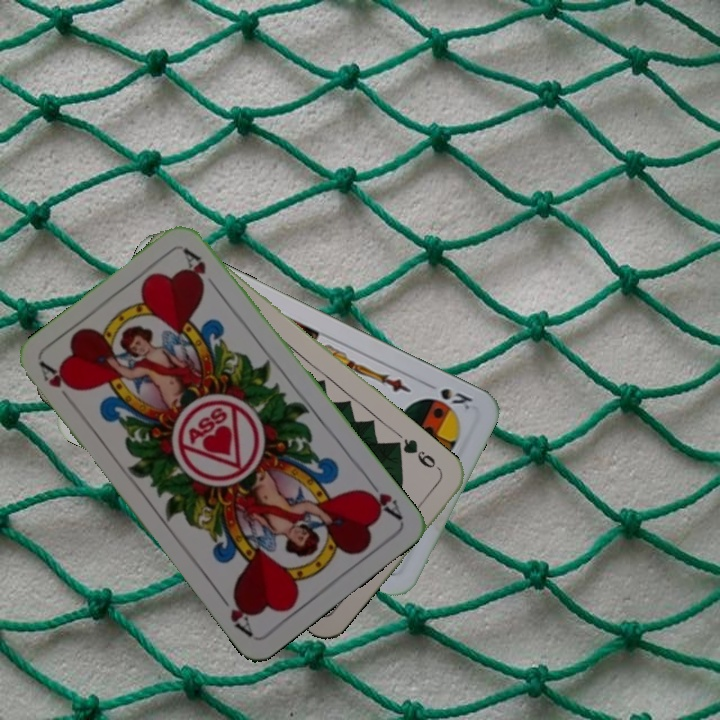G9: (392, 434, 445, 475)
HA: (358, 472, 405, 522), (36, 358, 79, 410)
SK: (436, 384, 475, 413)
